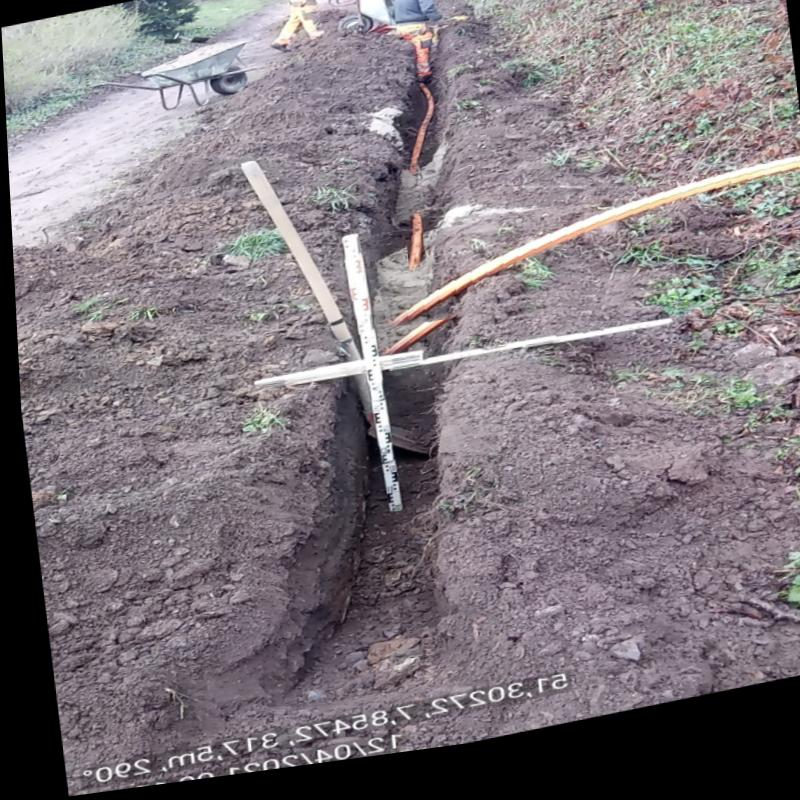Orang-Speednetrohrchen: (382, 177, 800, 342), (409, 99, 431, 177), (405, 227, 417, 281)
